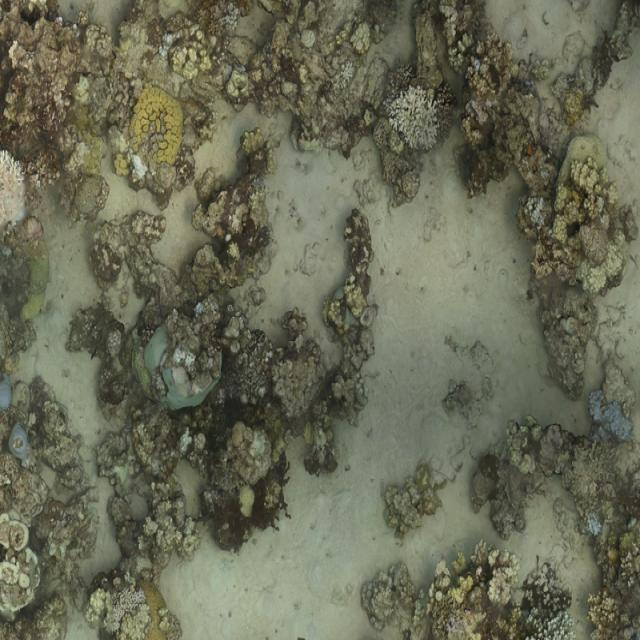Bleached Coral: (382, 72, 458, 160)
